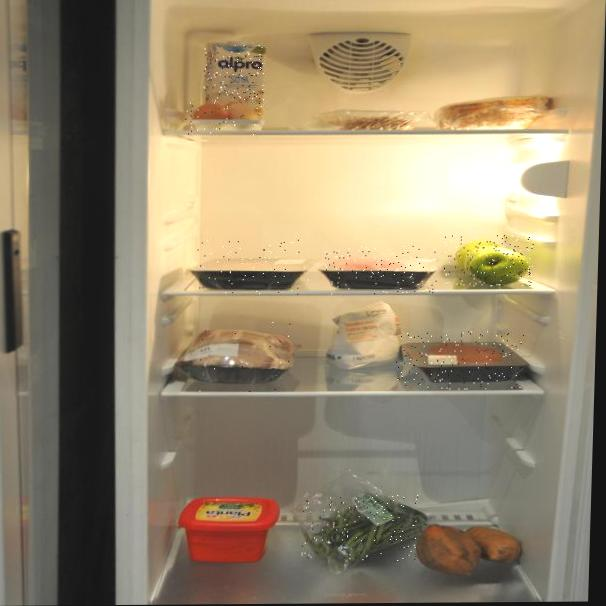apple: (443, 235, 534, 287)
chicken: (186, 321, 297, 393)
eggs: (185, 99, 268, 137)
green beans: (301, 495, 420, 563)
meat: (395, 331, 524, 390), (196, 240, 311, 295), (324, 246, 439, 295)
milk: (202, 45, 265, 134)
